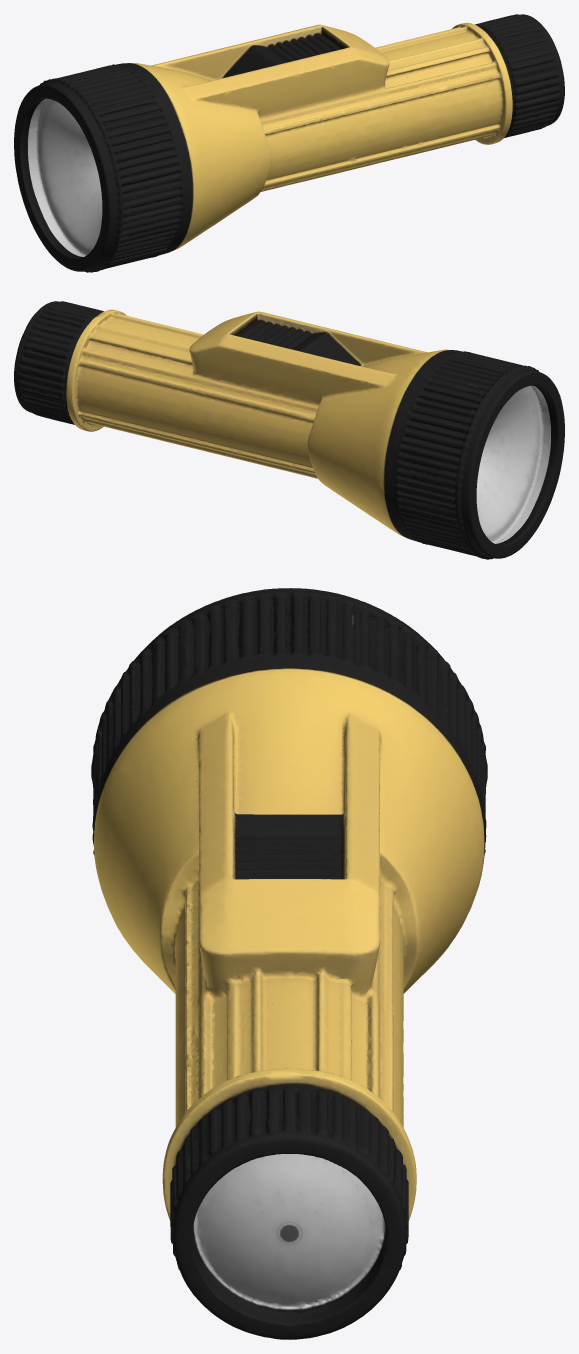
Rendered from Flashlight.glb.
The picture shows the model from 3 angles, top to bottom: view 1: azimuth 30°, elevation 25°; view 2: azimuth 150°, elevation 25°; view 3: azimuth 270°, elevation 25°; orthographic projection. The views are drawn at different scales.
Size of the model in its own units: 1.9 by 0.6859 by 0.6852.
1 material, 1 textured.
